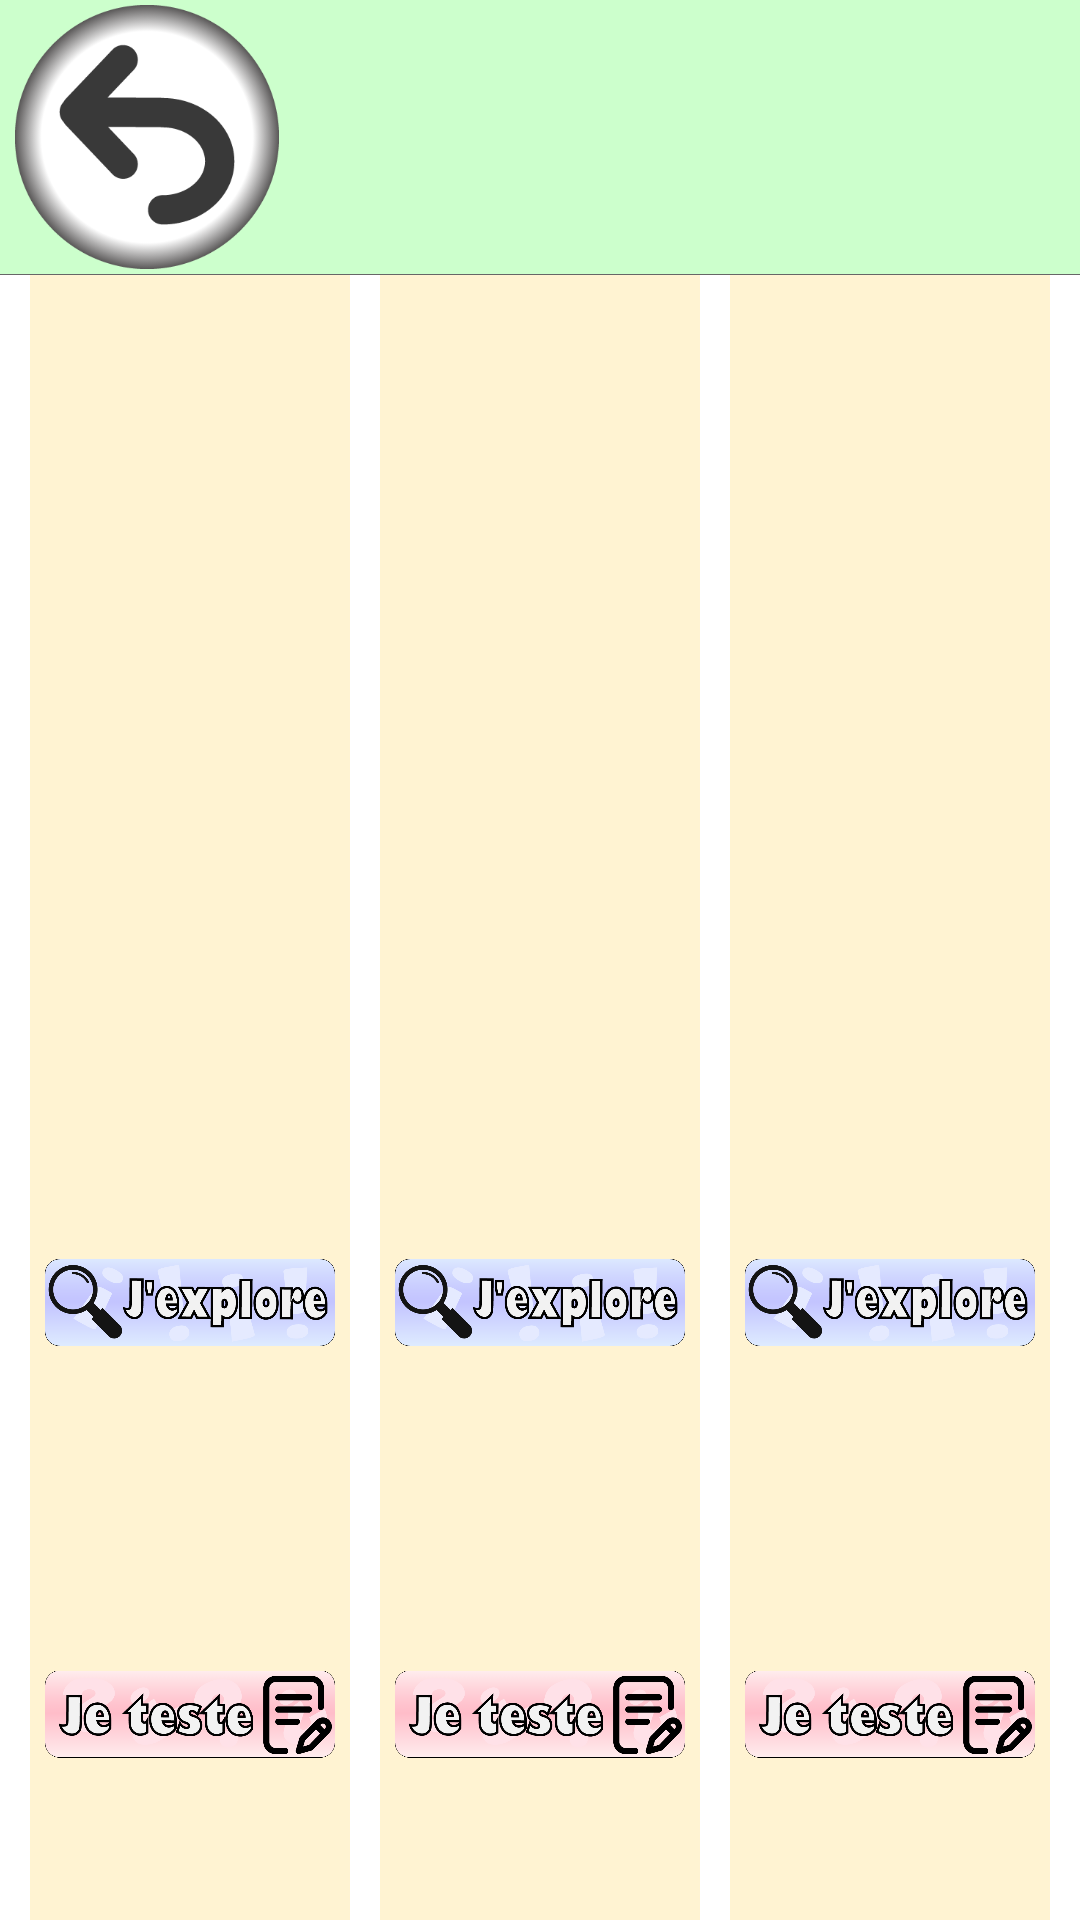

Icons on this 1080*1920 Android screen, each with its box as (x1, y1, x2, y2):
return: (15, 5, 279, 269)
